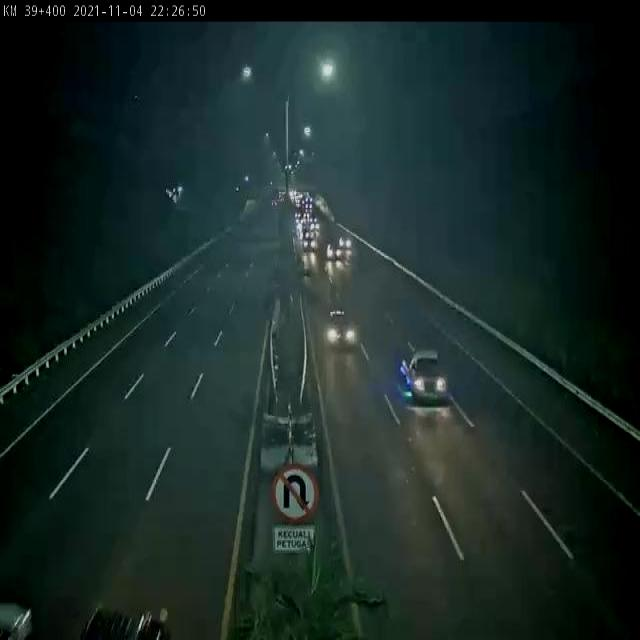Car: (398, 340, 450, 414), (316, 298, 360, 353)
